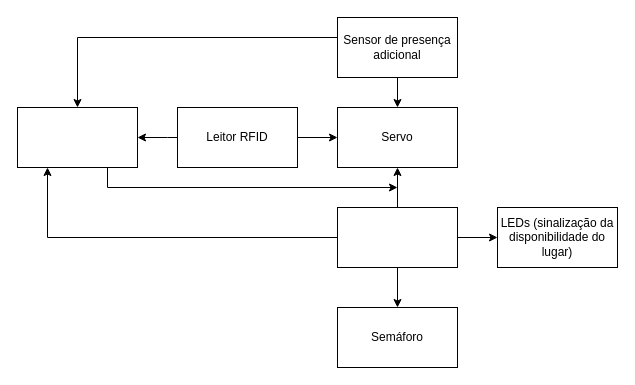
Image size: 635x385. Some labels were removed from this diagram. Here are the shapes that lost their labels. From the top down, the centre of each, then its label:
At point (77, 137): "Plataforma de visualização (PC)".
At point (397, 237): "Sensores de presença".
